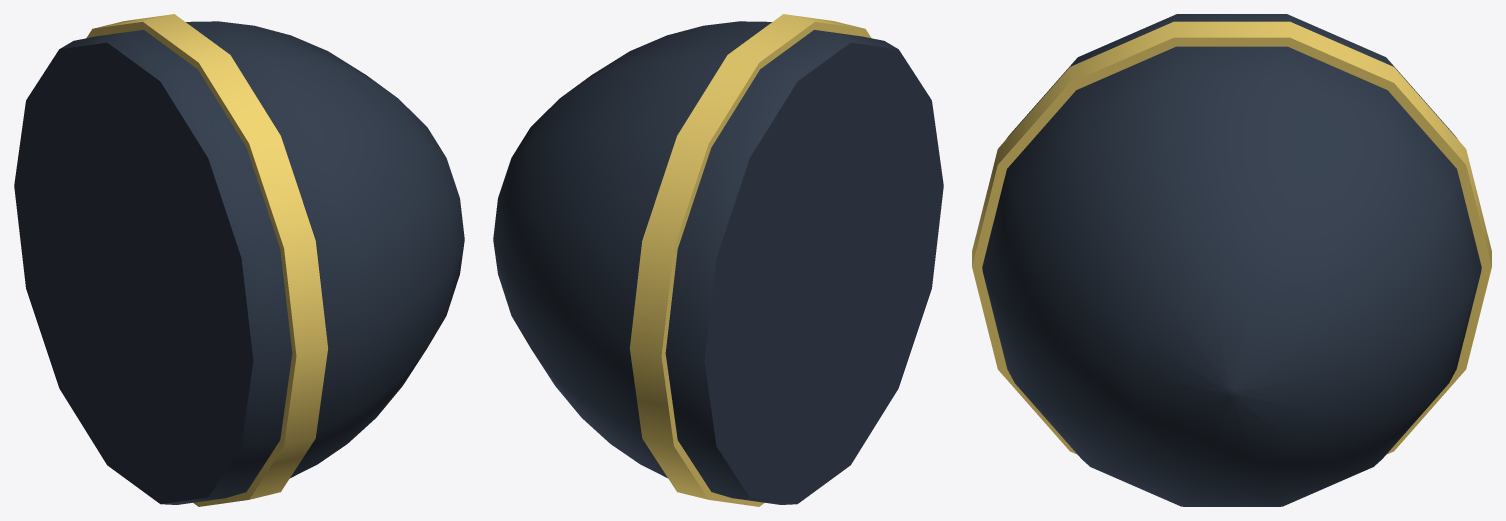
File: propeller-spinner.glb
3 views of the same model, side by side, from view 1: azimuth 30°, elevation 25°; view 2: azimuth 150°, elevation 25°; view 3: azimuth 270°, elevation 25° (orthographic). The views are drawn at different scales.
Visible parts, largest first — view 1: dark, trim; view 2: dark, trim; view 3: dark, trim.
Boxes of the visible parts, x1,y1,x2,y2 form: dark: (14,21,464,504); trim: (86,14,328,506); dark: (493,21,943,504); trim: (629,14,871,506); dark: (982,14,1481,506); trim: (972,21,1491,454).
Size of the model in its own units: 0.3 by 0.4017 by 0.412.
